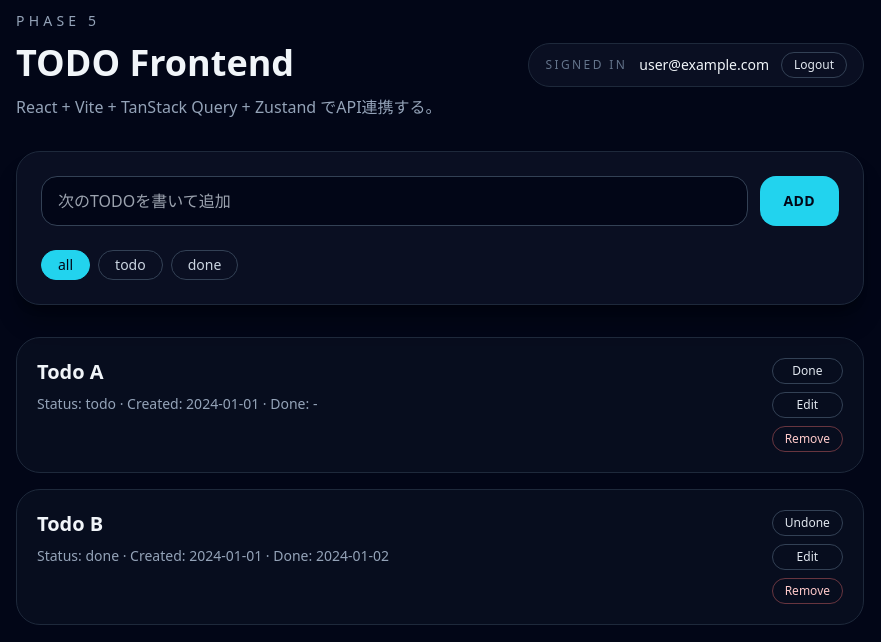
Test: TodoApp › フィルタを切り替えられる
Expected: the heading "Todo A" is shown, x1=37 y1=358 x2=104 y2=385
Expected: the heading "Todo B" is shown, x1=37 y1=510 x2=103 y2=537
# doneフィルタへ切り替え
Click the button "done". click: (204, 265)
box: x1=171 y1=250 x2=238 y2=280
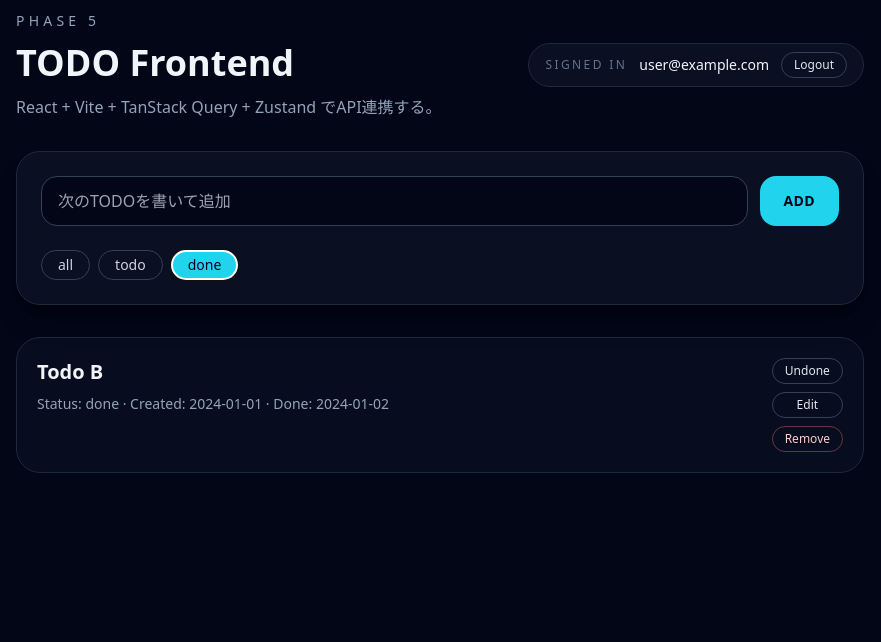
Expected: the heading "Todo B" is shown, x1=37 y1=358 x2=103 y2=385
Now the heading "Todo A" is gone
